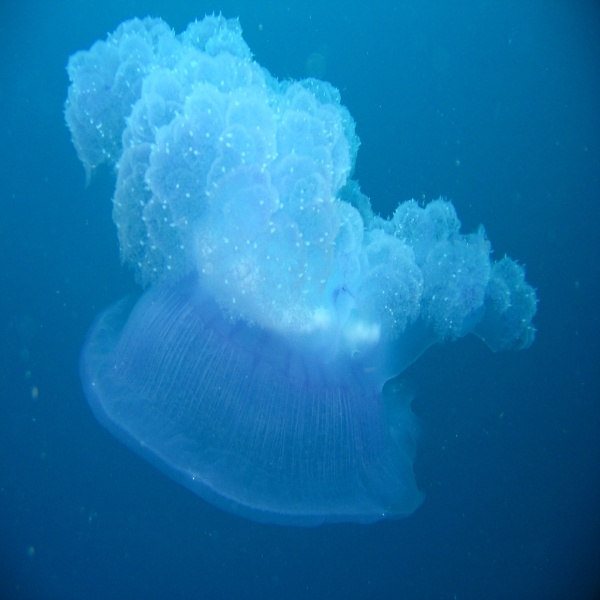Jellyfish: (58, 6, 538, 529)
